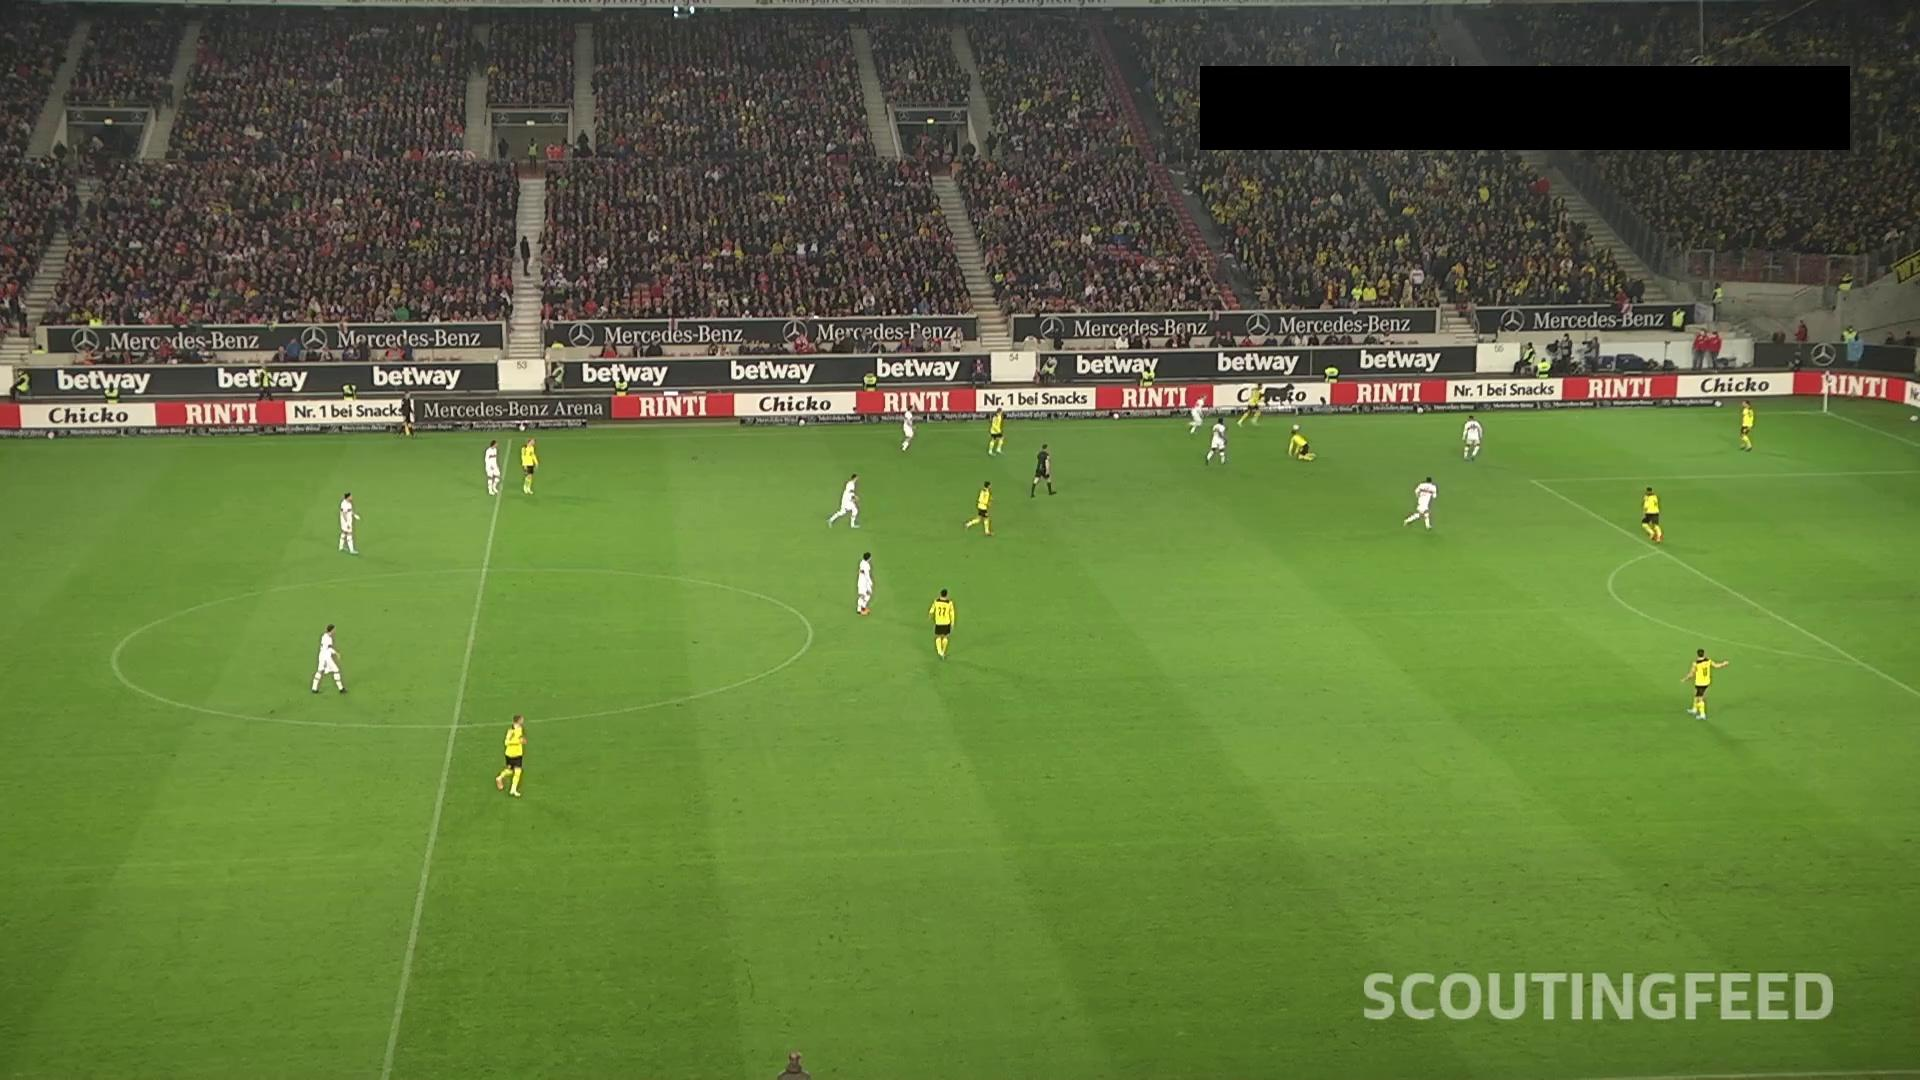Location-of-ball: (1287, 415, 1309, 440)
